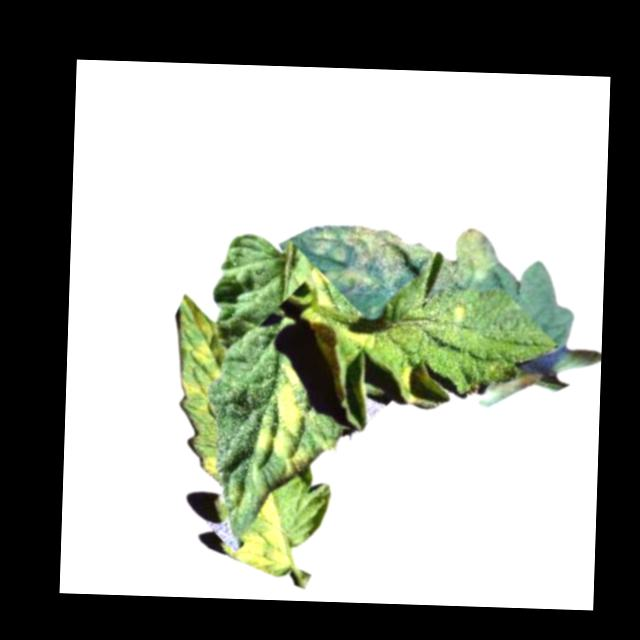Leaf_Mold: (307, 219, 504, 304), (171, 293, 226, 439), (254, 356, 318, 477), (303, 271, 379, 354), (232, 492, 292, 579), (400, 353, 452, 410), (199, 454, 220, 480)
